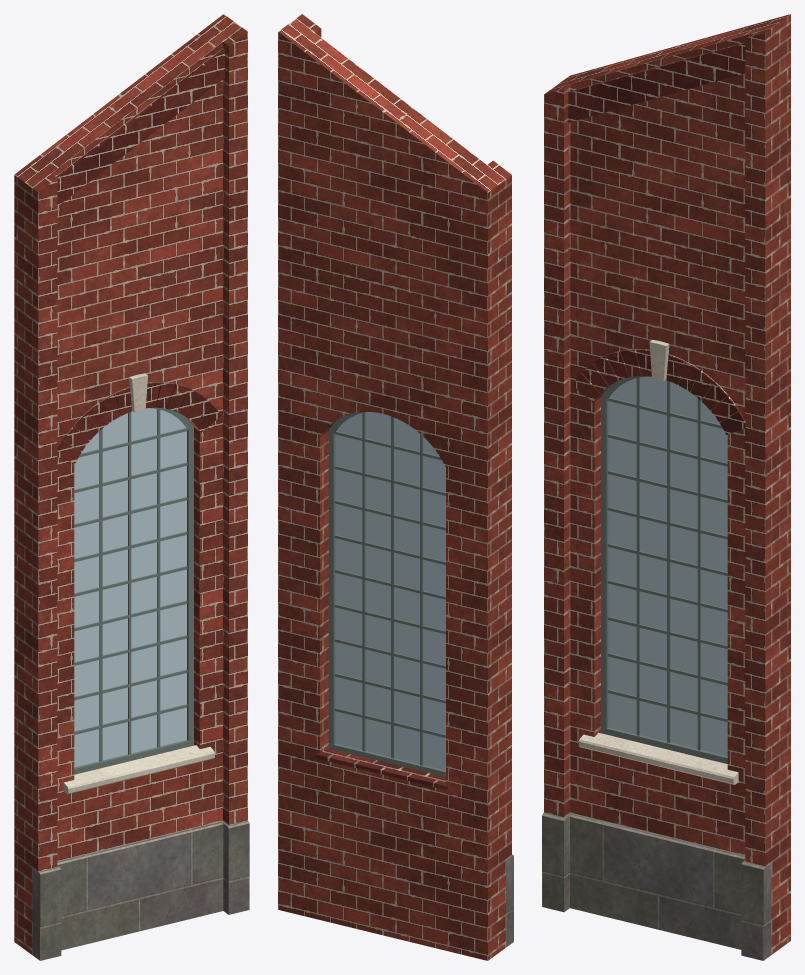
File: h_side_window_l1.glb
3 views of the same model, side by side, from view 1: azimuth 30°, elevation 25°; view 2: azimuth 150°, elevation 25°; view 3: azimuth 330°, elevation 25° (orthographic). The views are drawn at different scales.
Visible parts, largest first — view 1: h_side_window_l1_brick, h_side_window_l1_glass, h_side_window_l1_plinth, h_side_window_l1_wframe, h_side_window_l1_brick2, h_side_window_l1_trim; view 2: h_side_window_l1_brick, h_side_window_l1_glass, h_side_window_l1_wframe, h_side_window_l1_brick2, h_side_window_l1_plinth; view 3: h_side_window_l1_brick, h_side_window_l1_glass, h_side_window_l1_plinth, h_side_window_l1_wframe, h_side_window_l1_brick2, h_side_window_l1_trim.
Boxes of the visible parts, x1,y1,x2,y2 form: h_side_window_l1_brick: [14, 14, 247, 954]; h_side_window_l1_glass: [74, 408, 186, 767]; h_side_window_l1_plinth: [32, 821, 249, 960]; h_side_window_l1_wframe: [74, 407, 193, 774]; h_side_window_l1_brick2: [56, 48, 224, 463]; h_side_window_l1_trim: [63, 373, 214, 794]; h_side_window_l1_brick: [278, 14, 511, 960]; h_side_window_l1_glass: [335, 412, 445, 770]; h_side_window_l1_wframe: [328, 411, 445, 777]; h_side_window_l1_brick2: [316, 748, 447, 789]; h_side_window_l1_plinth: [506, 854, 513, 947]; h_side_window_l1_brick: [544, 14, 790, 954]; h_side_window_l1_glass: [608, 376, 727, 756]; h_side_window_l1_plinth: [542, 813, 771, 960]; h_side_window_l1_wframe: [601, 376, 727, 763]; h_side_window_l1_brick2: [568, 42, 745, 434]; h_side_window_l1_trim: [578, 339, 738, 784].
Bounding box in the file's own units: 2 × 8 × 0.46.
6 materials, 4 textured.
